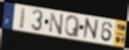3: (31, 9, 44, 33)
6: (101, 21, 113, 43)
I: (18, 7, 27, 31)
N: (83, 17, 100, 41), (49, 12, 65, 36)
Q: (64, 15, 81, 39)
